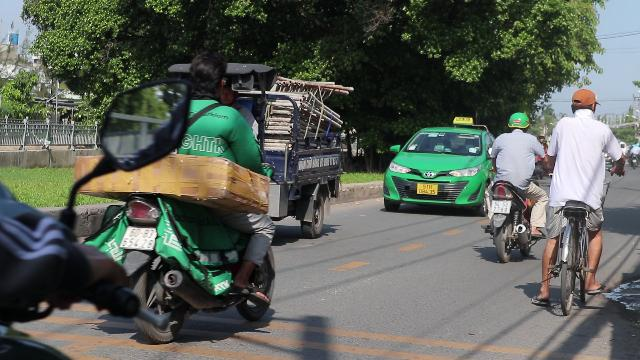helmet: (506, 112, 530, 132)
licenseplate: (120, 226, 156, 250), (490, 200, 510, 214)
motorcyclist: (62, 41, 284, 342), (479, 110, 546, 262)
nohelmet: (184, 48, 230, 103)
